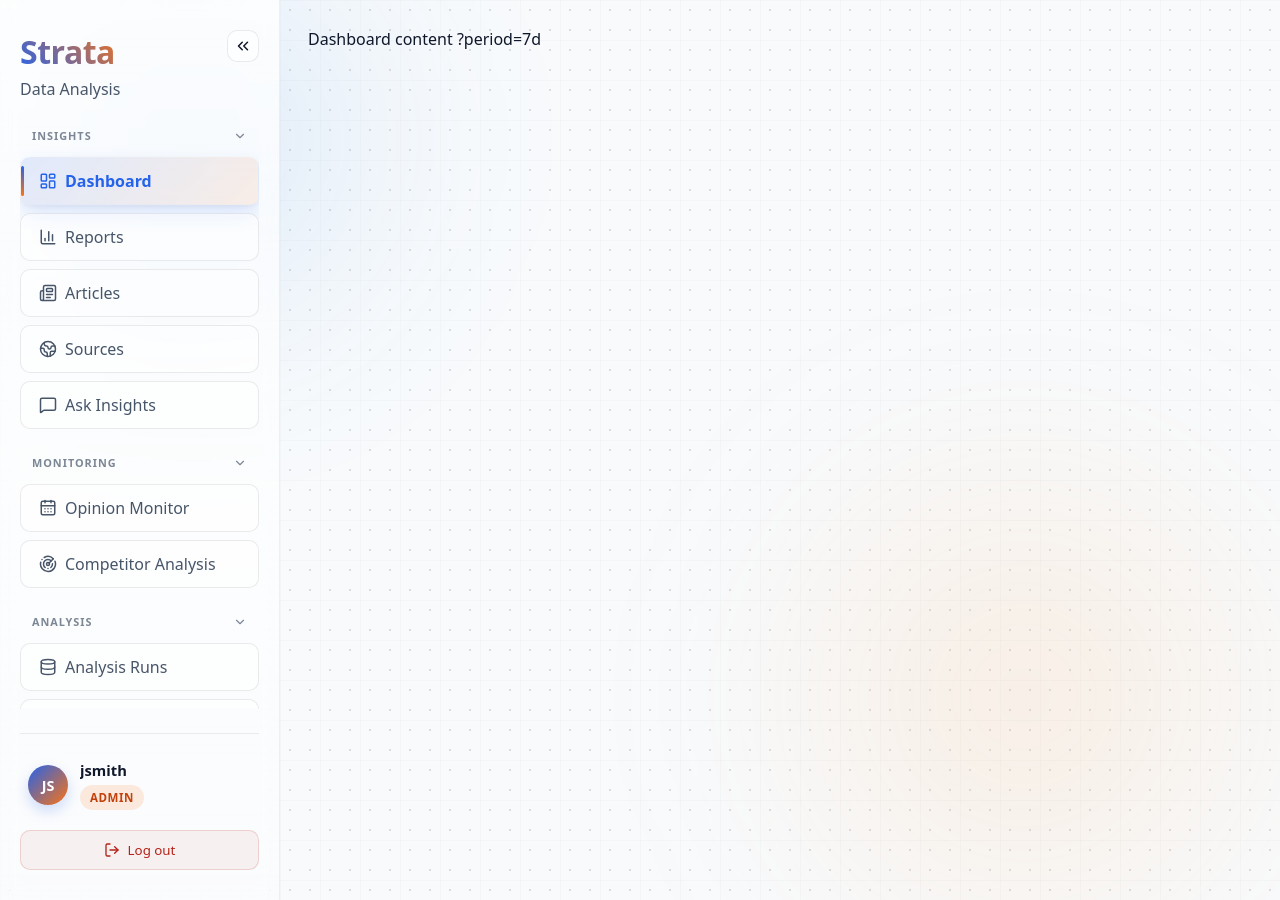
Scenario: AppShell / Sidebar - RTL navigation and mobile drawer › preserves the period selection when navigating from dashboard to reports
Click the link "Reports" at (140, 237), box 20,213 -> 259,261
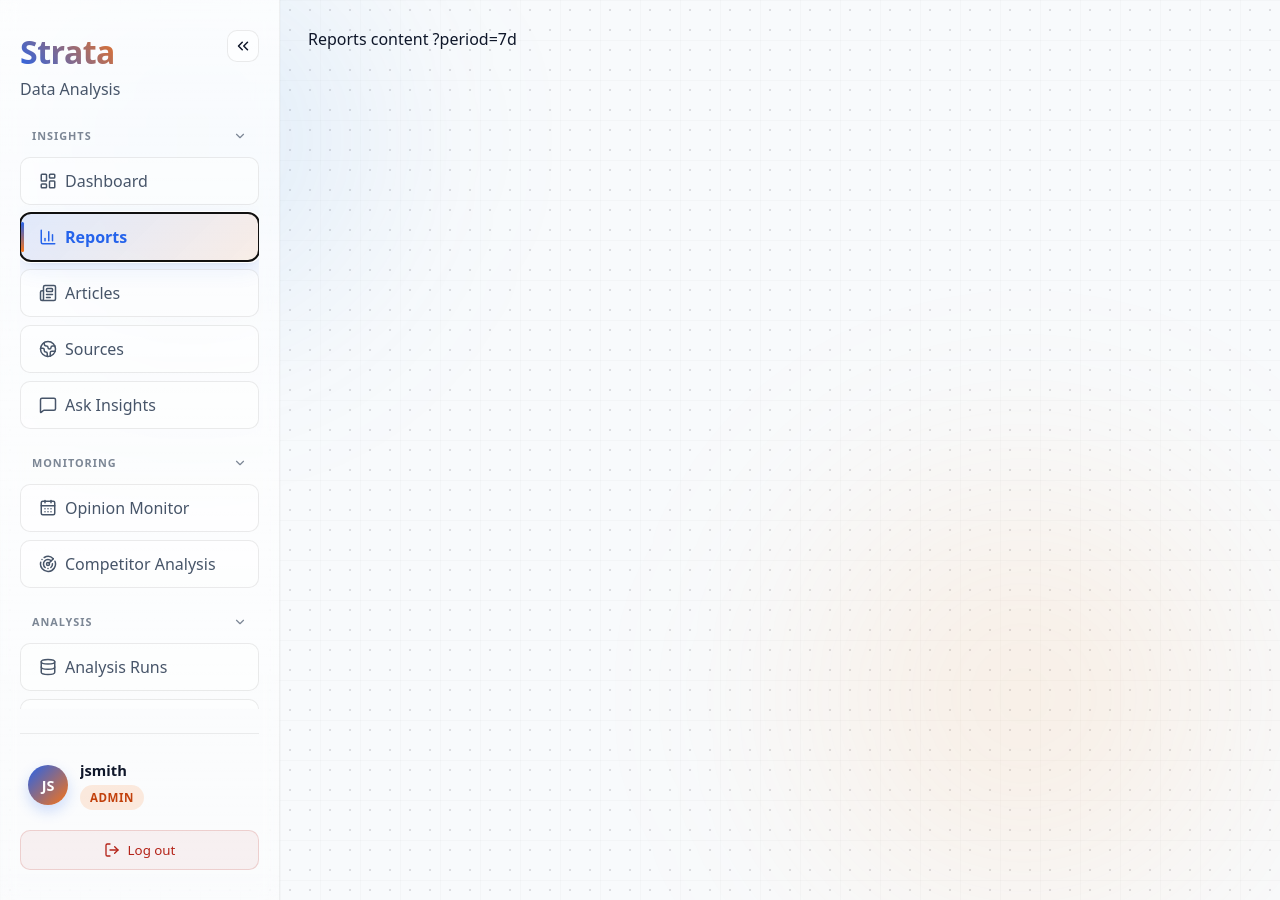
expect the text named "Current search" reads "?period=7d": met, box 433,28 -> 517,50
expect the text "Reports content" is shown: met, box 308,28 -> 517,50
